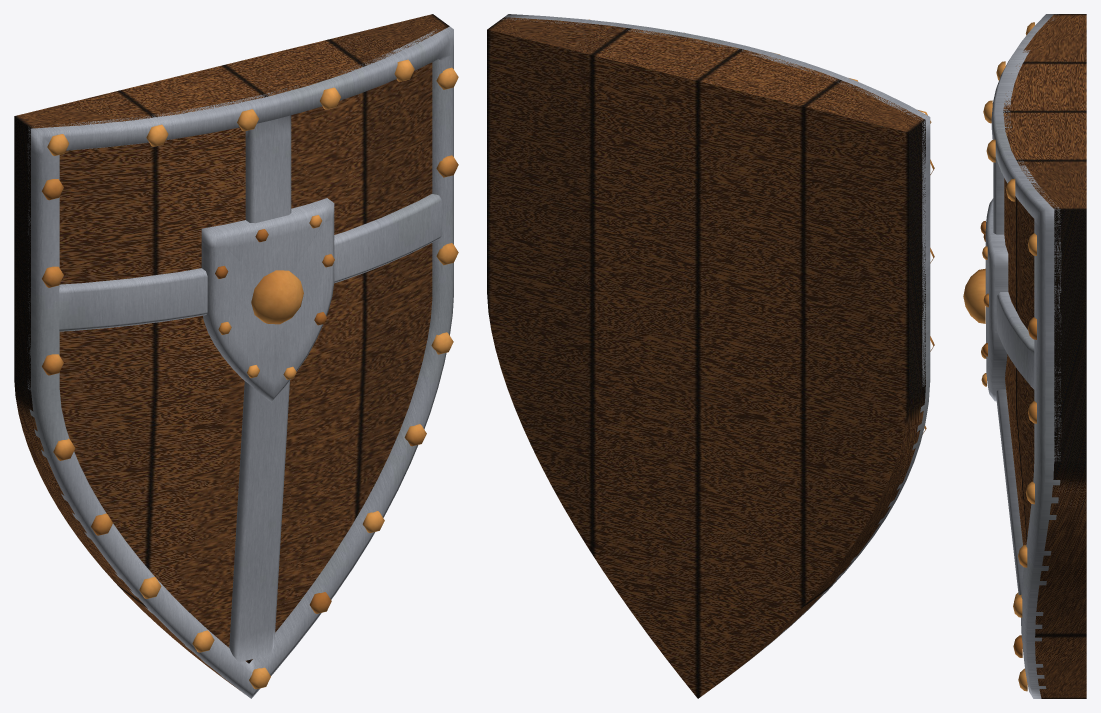
The model's file is escudo.glb.
The picture shows the model from 3 angles, left to right: view 1: azimuth 30°, elevation 25°; view 2: azimuth 150°, elevation 25°; view 3: azimuth 270°, elevation 25°; orthographic projection. The views are drawn at different scales.
Visible parts, largest first — view 1: Escudo_Madera, Escudo_Acero, Escudo_Bronce; view 2: Escudo_Madera, Escudo_Acero; view 3: Escudo_Madera, Escudo_Acero, Escudo_Bronce.
Boxes of the visible parts, x1,y1,x2,y2 form: Escudo_Madera: [14, 14, 449, 690]; Escudo_Acero: [27, 26, 453, 698]; Escudo_Bronce: [42, 59, 458, 689]; Escudo_Madera: [487, 17, 925, 698]; Escudo_Acero: [501, 14, 930, 665]; Escudo_Madera: [1003, 14, 1086, 698]; Escudo_Acero: [985, 14, 1061, 698]; Escudo_Bronce: [963, 22, 1036, 691].
Bounding box in the file's own units: 3 × 4.2 × 0.7995.
3 materials, 3 textured.
